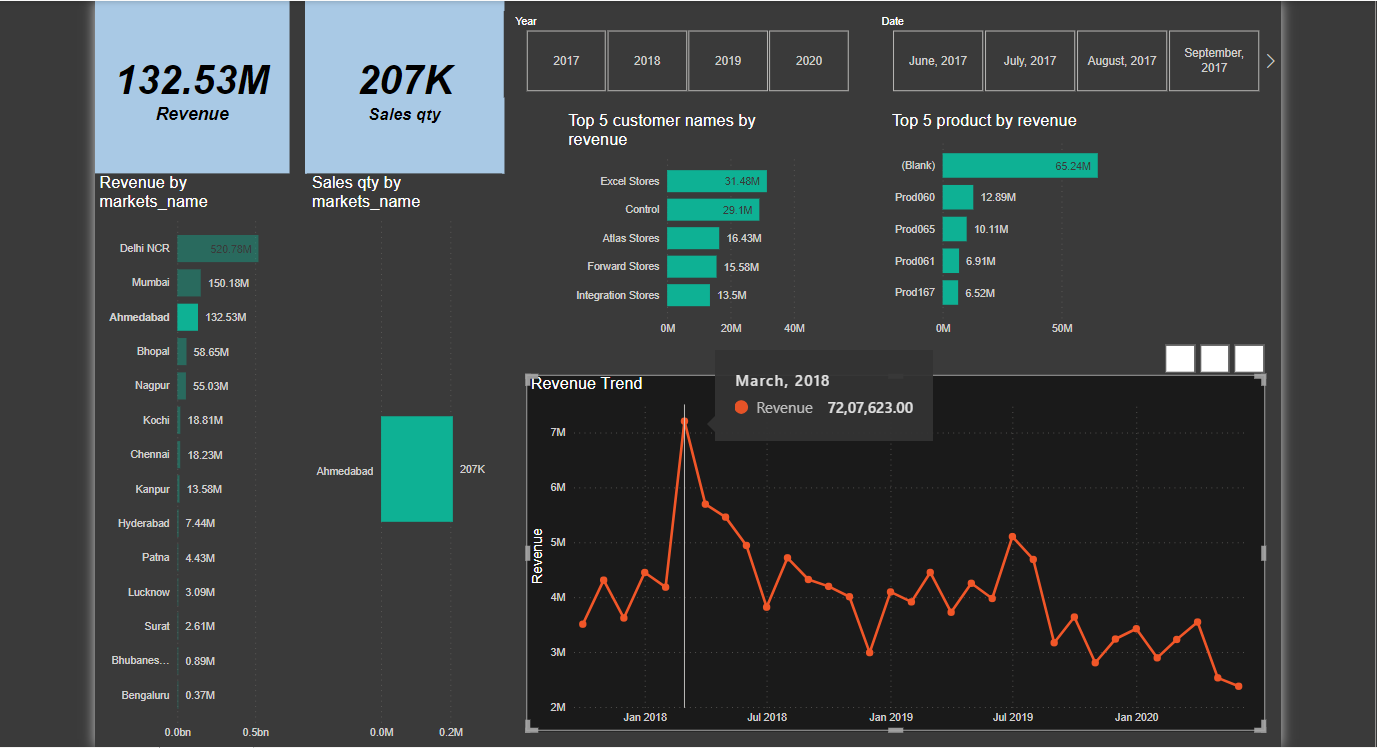

The dashboard page shown, as its layout file describes it:
{"tool":"powerbi","page":{"name":"Page 1","canvas":[1350,850],"ordinal":0},"visuals":[{"type":"card","fields":{"Values":["Base_Mesure.Revenue"]},"box":[0,0,221.4,196.8],"z":0},{"type":"card","fields":{"Values":["Base_Mesure.Sales qty"]},"box":[238.8,0,227.2,196.8],"z":1000},{"type":"barChart","fields":{"Category":["sales markets.markets_name"],"Y":["Base_Mesure.Revenue"]},"box":[0,196.8,221.4,652.7],"z":2000},{"type":"barChart","fields":{"Category":["sales markets.markets_name"],"Y":["Base_Mesure.Sales qty"]},"box":[241.7,196.8,221.4,652.7],"z":3000},{"type":"slicer","fields":{"Values":["sales date.year"]},"box":[466,11.6,416.8,98.4],"z":4000},{"type":"slicer","fields":{"Values":["sales date.cy_date"]},"box":[882.8,11.6,467.5,98.4],"z":5000},{"type":"barChart","title":"Top 5 customer names by revenue","fields":{"Category":["sales customers.custmer_name"],"Y":["Base_Mesure.Revenue"]},"box":[534,125.9,279.3,263.4],"z":6000},{"type":"barChart","title":"Top 5 product by revenue","fields":{"Category":["sales products.product_code"],"Y":["Base_Mesure.Revenue"]},"box":[903.1,125.9,296.7,263.4],"z":7000},{"type":"lineChart","title":"Revenue Trend","fields":{"Y":["Base_Mesure.Revenue"],"Category":["sales date.cy_date"]},"box":[471.8,425.5,861.1,315.5],"z":8000}]}

Visuals, with their boxes on the page's 1350x850 design canvas (x1, y1, x2, y2). These are canvas units, not pixel positions in the 1377x748 screenshot, which may show the page scaled, cropped or inside an application window:
card - Base_Mesure.Revenue: <box>0,0,221,197</box>
card - Base_Mesure.Sales qty: <box>239,0,466,197</box>
barChart - sales markets.markets_name x Base_Mesure.Revenue: <box>0,197,221,850</box>
barChart - sales markets.markets_name x Base_Mesure.Sales qty: <box>242,197,463,850</box>
slicer - sales date.year: <box>466,12,883,110</box>
slicer - sales date.cy_date: <box>883,12,1350,110</box>
"Top 5 customer names by revenue" barChart: <box>534,126,813,389</box>
"Top 5 product by revenue" barChart: <box>903,126,1200,389</box>
"Revenue Trend" lineChart: <box>472,426,1333,741</box>
